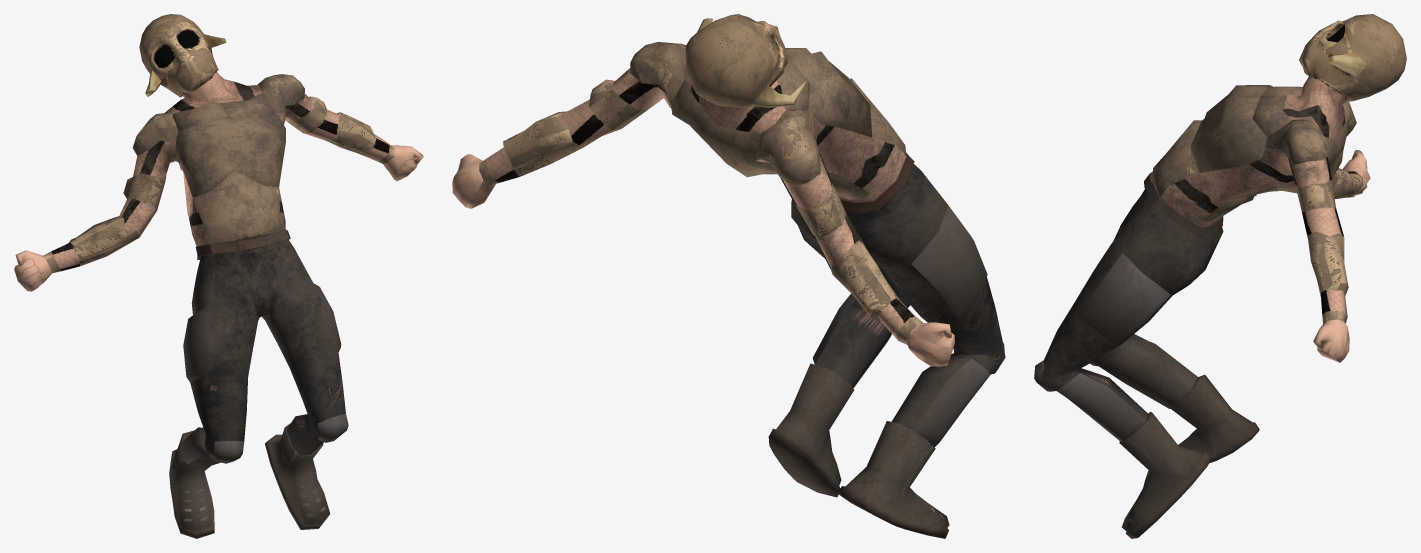
Rendered from Anim_morir_npc1.0022.obj.
3 views of the same model, side by side, from view 1: azimuth 30°, elevation 25°; view 2: azimuth 150°, elevation 25°; view 3: azimuth 270°, elevation 25° (orthographic). The views are drawn at different scales.
Parts seen in each view (by area): view 1: NPC2; view 2: NPC2; view 3: NPC2.
Part boxes in pixels (box(x1,y1,x2,y2)): NPC2: box(14, 14, 423, 538); NPC2: box(452, 14, 1005, 538); NPC2: box(1034, 14, 1406, 538).
Size of the model in its own units: 6.93 by 7.55 by 5.12.
